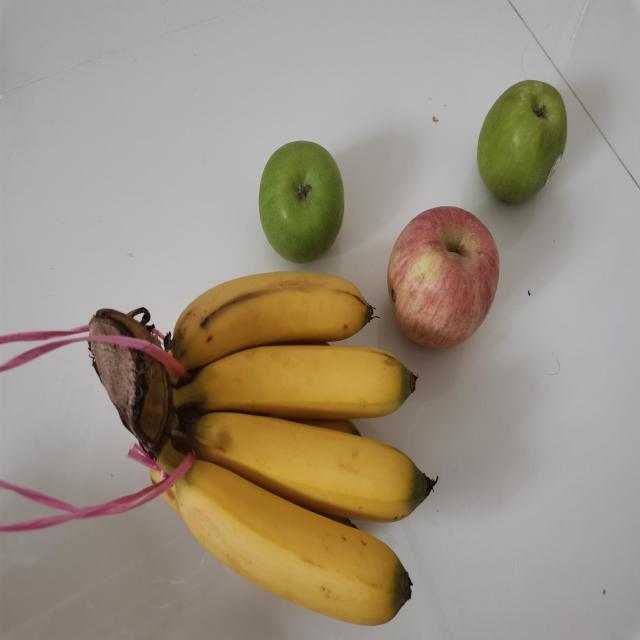Apple: (387, 204, 502, 351), (474, 76, 571, 208), (256, 138, 345, 261)
Banana: (88, 267, 438, 629)
